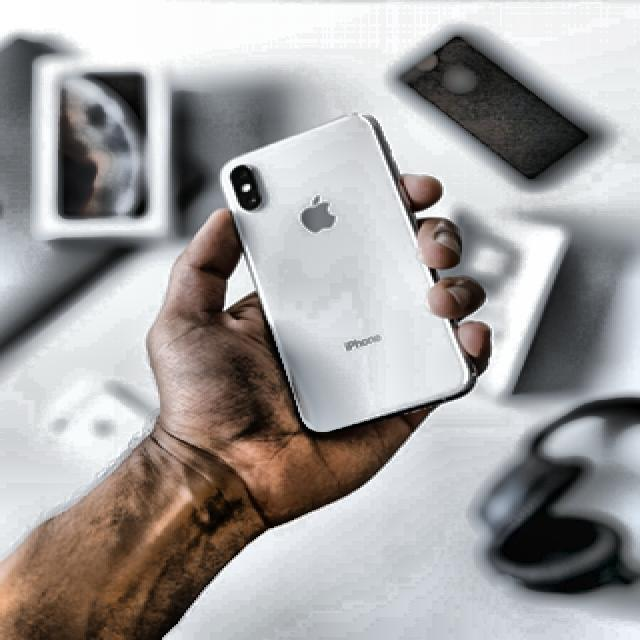Phone: (217, 114, 480, 438)
